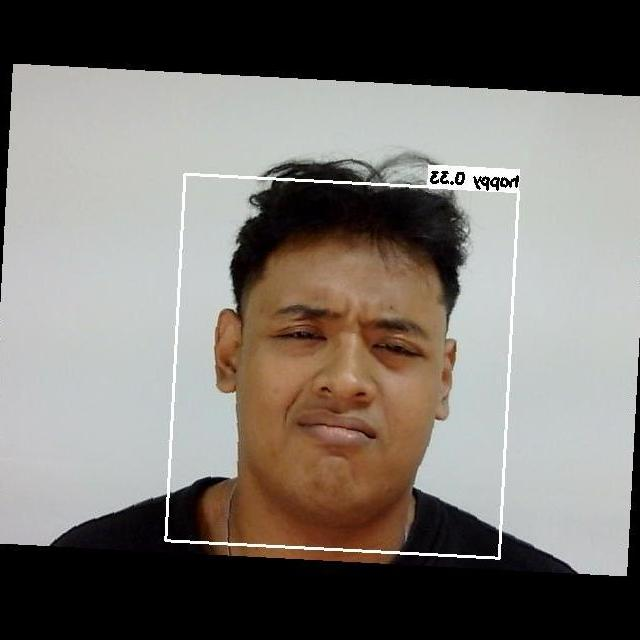Disgust: (235, 269, 434, 488)
